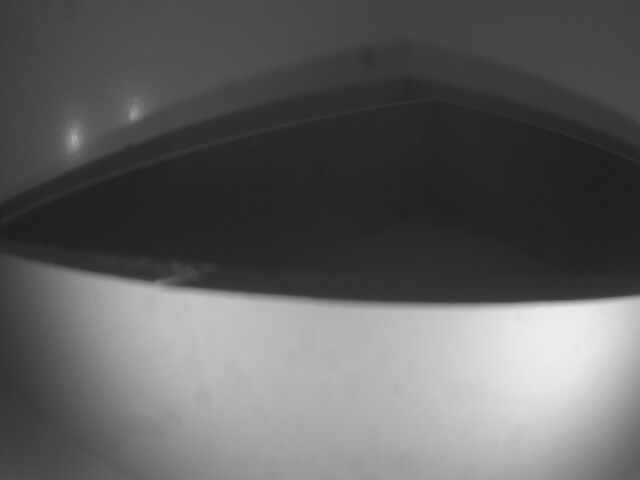Red: (2, 250, 640, 480)
